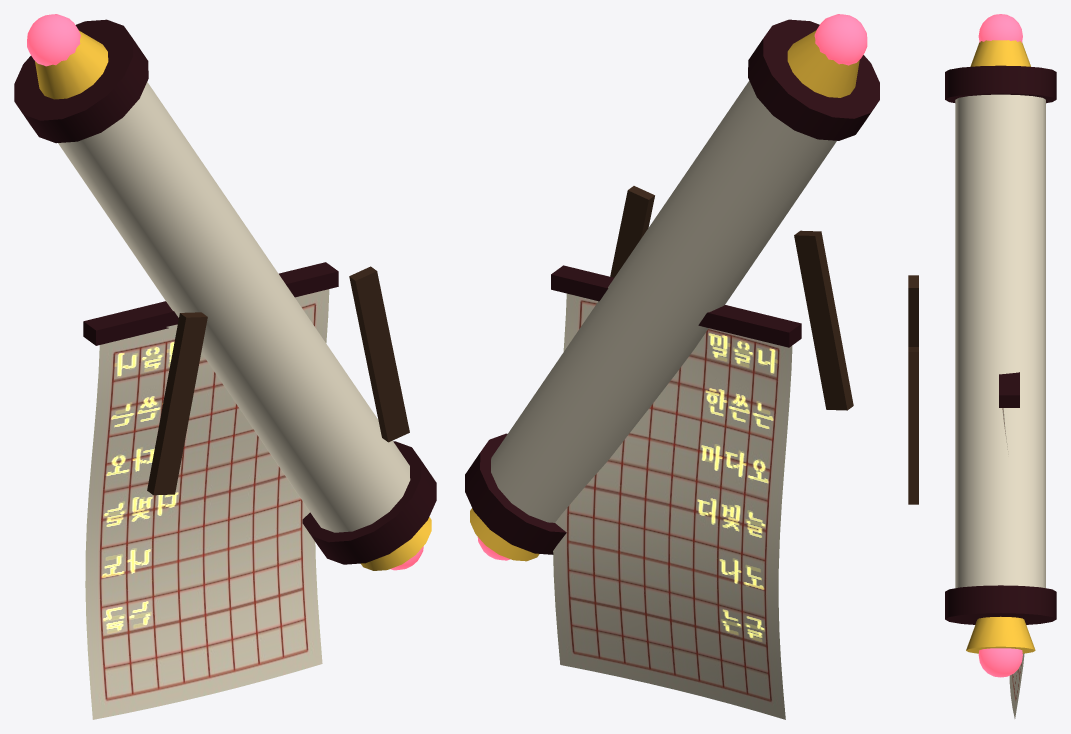
The model's file is back_eqko4.glb.
The picture shows the model from 3 angles, left to right: view 1: azimuth 30°, elevation 25°; view 2: azimuth 150°, elevation 25°; view 3: azimuth 270°, elevation 25°; orthographic projection. The views are drawn at different scales.
Bounding box in the file's own units: 2.2 × 3.75 × 0.85.
Materials: 8 (1 with a texture image).
